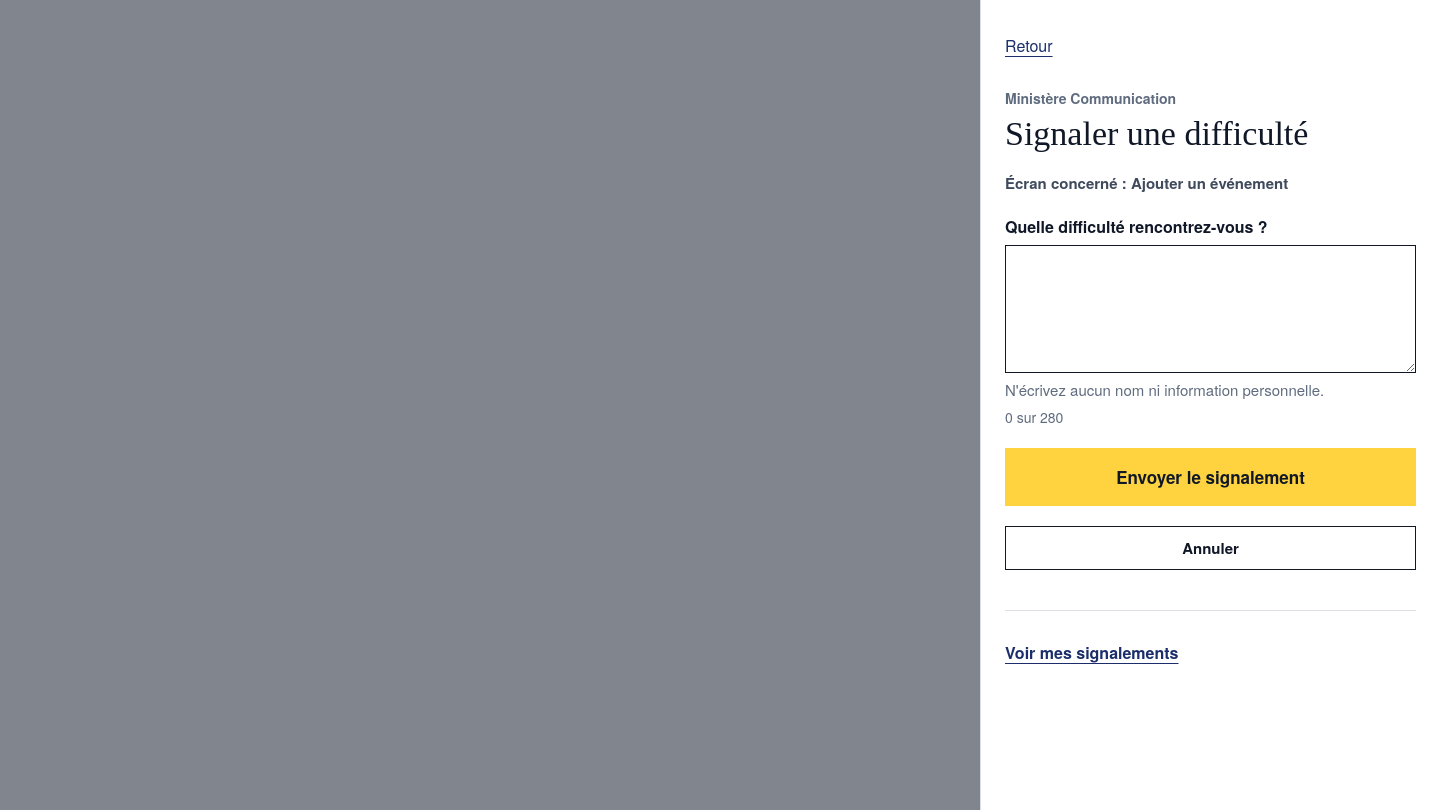
Test: « Signaler une difficulté » › moins de 10 caractères : l’erreur sous le champ, rien n’est envoyé
Type "Bloqué" into the text box labelled "Quelle difficulté rencontrez-vous ?". click: (1210, 309)
box: x1=1005 y1=245 x2=1416 y2=373
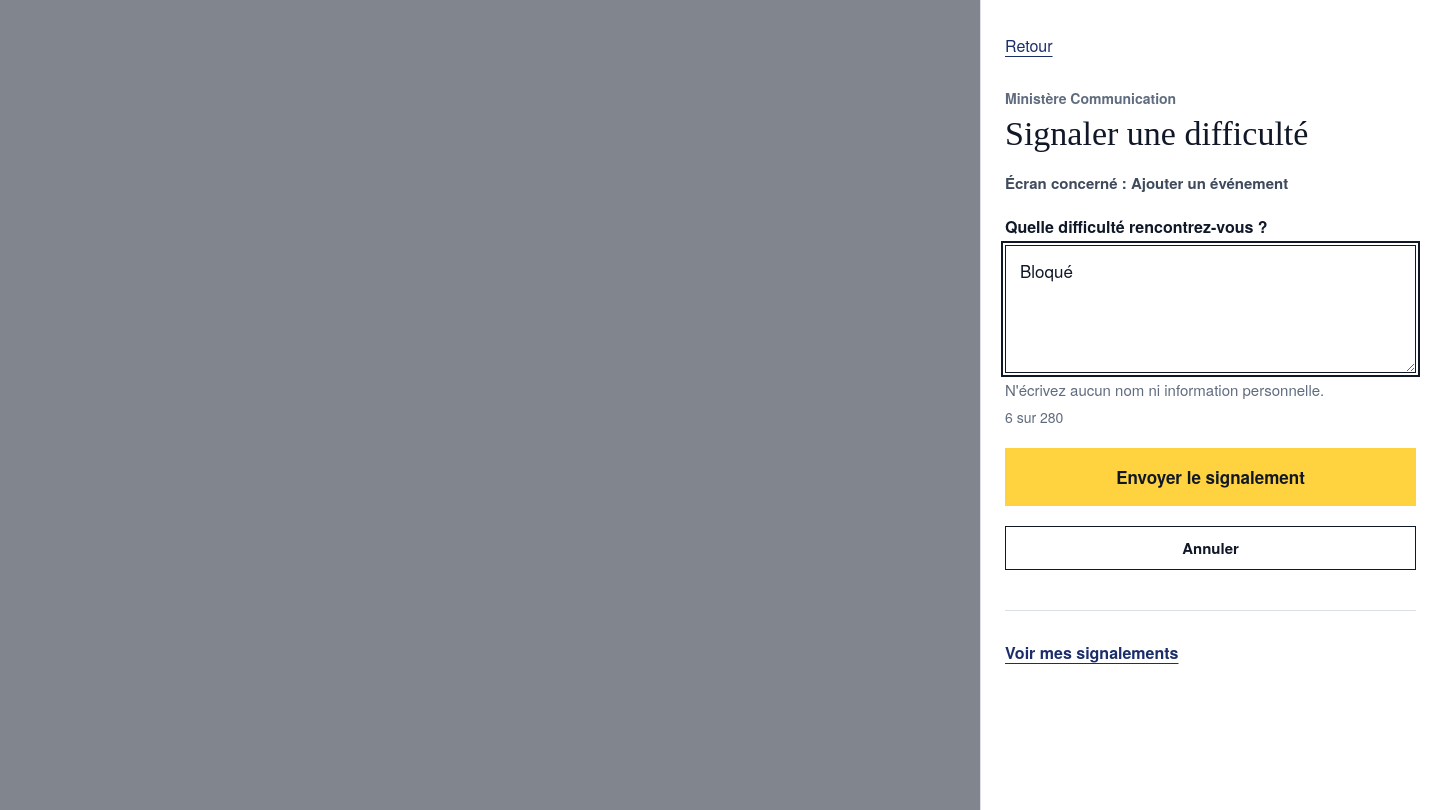
Click the button named "Envoyer le signalement". click: (1210, 477)
box: x1=1005 y1=448 x2=1416 y2=506
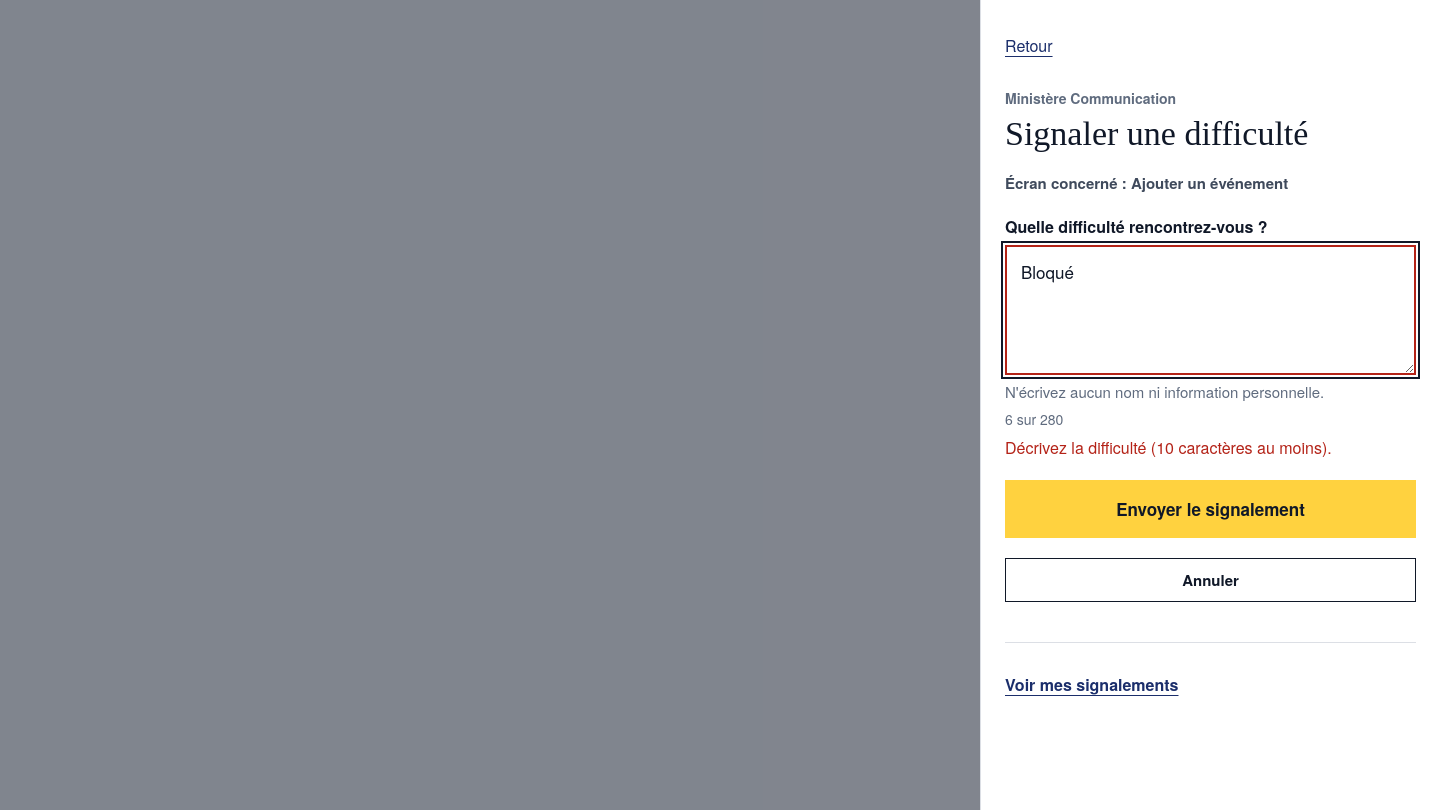
Expected: the text "Décrivez la difficulté (10 caractères au moins)." is shown, x1=1005 y1=436 x2=1332 y2=459
